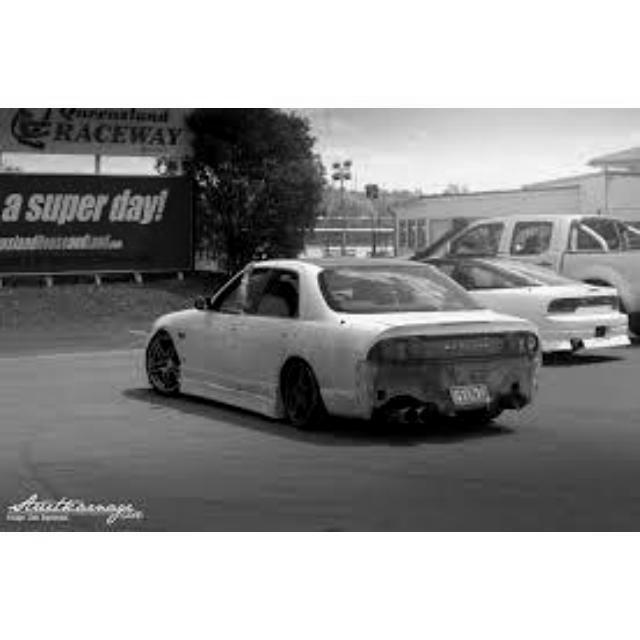rear-bumper-dent: (365, 366, 534, 430)
